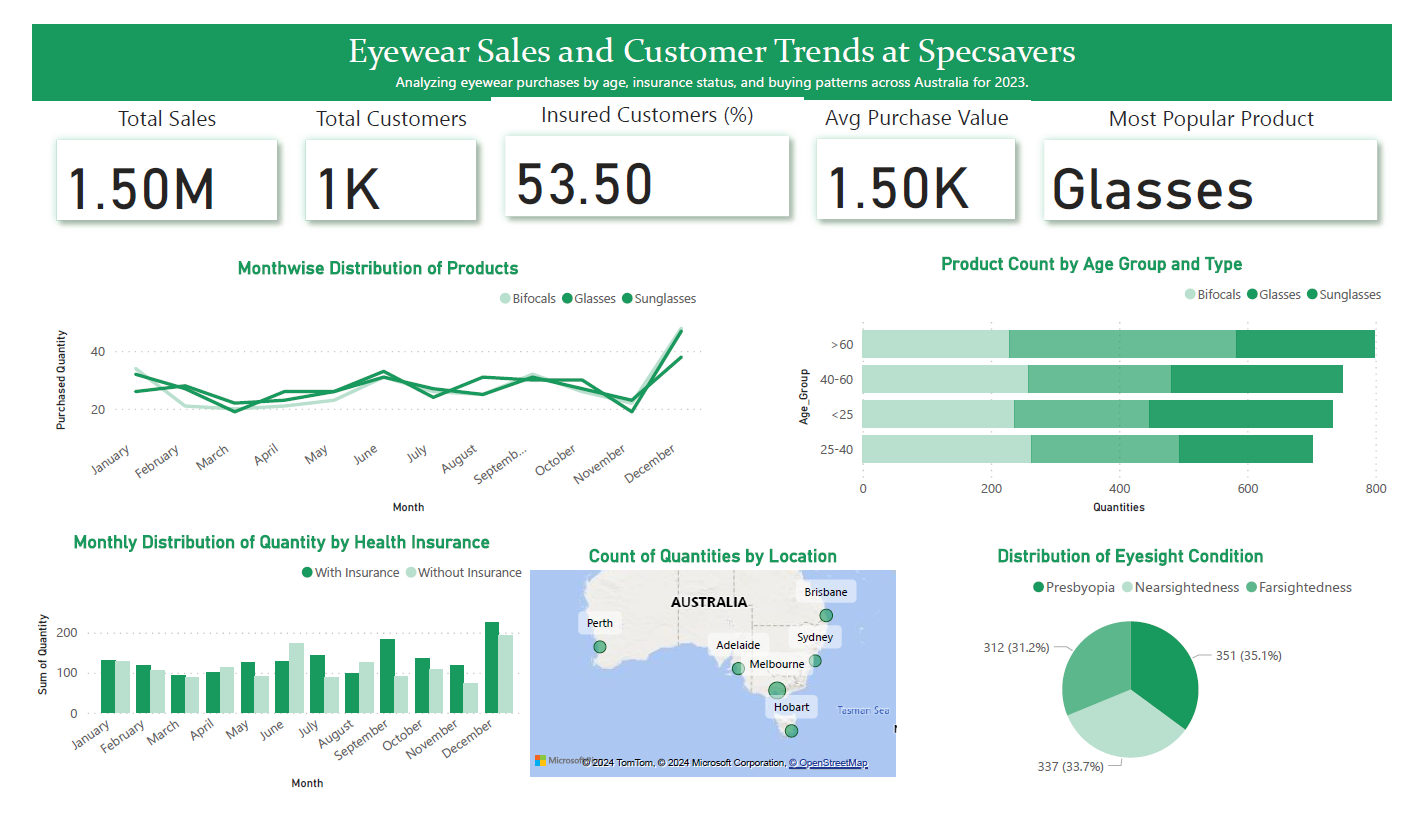

Layout of this report page (visuals, bound fields, positions):
{"tool":"powerbi","page":{"name":"Specsavers 2023","canvas":[1280,720],"ordinal":0},"visuals":[{"type":"textbox","box":[9.6,0,1270.7,71.4],"z":0},{"type":"cardVisual","title":"Total Sales","fields":{"Data":["Sum(MOCK_DATA.Total_Purchase_Value)1"]},"box":[19.6,71.9,232.5,125.4],"z":1000},{"type":"cardVisual","title":"Total Customers","fields":{"Data":["Count(MOCK_DATA.Customer_ID)"]},"box":[252.1,71.9,186.8,125.4],"z":2000},{"type":"cardVisual","title":"Insured Customers (%)","fields":{"Data":["MOCK_DATA.Percent_Insurance1"]},"box":[438.9,68,291.3,125.4],"z":3000},{"type":"cardVisual","title":"Avg Purchase Value","fields":{"Data":["Avg(MOCK_DATA.Total_Purchase_Value)1"]},"box":[730.3,70.5,212.9,125.4],"z":4000},{"type":"cardVisual","title":"Most Popular Product","fields":{"Data":["MOCK_DATA.Most_Popular_Product1"]},"box":[943.2,71.9,337,125.4],"z":5000},{"type":"lineChart","title":"Monthwise Distribution of Products","fields":{"Category":["MOCK_DATA.Purchase_Date.Variation.Date Hierarchy.Month"],"Y":["CountNonNull(MOCK_DATA.Quantity)"],"Series":["MOCK_DATA.Product_Type"]},"box":[26.1,216.9,614,245.6],"z":6000},{"type":"barChart","title":"Product Count by Age Group and Type","fields":{"Category":["MOCK_DATA.Age_Group"],"Series":["MOCK_DATA.Product_Type"],"Y":["Sum(MOCK_DATA.Quantity)"]},"box":[719.8,212.9,560.4,249.5],"z":7000},{"type":"clusteredColumnChart","title":"Monthly Distribution of Quantity by Health Insurance","fields":{"Category":["MOCK_DATA.Purchase_Date.Variation.Date Hierarchy.Month"],"Series":["MOCK_DATA.Health_Insurance"],"Y":["Sum(MOCK_DATA.Quantity)"]},"box":[9.1,472.9,467.7,246.9],"z":8000},{"type":"pieChart","title":"Distribution of Eyesight Condition","fields":{"Y":["CountNonNull(MOCK_DATA.Eyesight_Condition)"],"Category":["MOCK_DATA.Eyesight_Condition"]},"box":[819.1,486,433.7,220.8],"z":9000},{"type":"map","title":"Count of Quantities by Location","fields":{"Category":["MOCK_DATA.Location"],"Size":["CountNonNull(MOCK_DATA.Quantity)"]},"box":[470.3,486,351.4,220.8],"z":10000}]}

Visuals, with their boxes in screenshot pixels (x1, y1, x2, y2), scaled from the page's 1280x720 canvas onto the 1413x816 screenshot:
textbox: (x1=11, y1=0, x2=1412, y2=81)
"Total Sales" cardVisual: (x1=22, y1=81, x2=278, y2=224)
"Total Customers" cardVisual: (x1=278, y1=81, x2=485, y2=224)
"Insured Customers (%)" cardVisual: (x1=485, y1=77, x2=806, y2=219)
"Avg Purchase Value" cardVisual: (x1=806, y1=80, x2=1041, y2=222)
"Most Popular Product" cardVisual: (x1=1041, y1=81, x2=1412, y2=224)
"Monthwise Distribution of Products" lineChart: (x1=29, y1=246, x2=707, y2=524)
"Product Count by Age Group and Type" barChart: (x1=795, y1=241, x2=1412, y2=524)
"Monthly Distribution of Quantity by Health Insurance" clusteredColumnChart: (x1=10, y1=536, x2=526, y2=815)
"Distribution of Eyesight Condition" pieChart: (x1=904, y1=551, x2=1383, y2=801)
"Count of Quantities by Location" map: (x1=519, y1=551, x2=907, y2=801)
